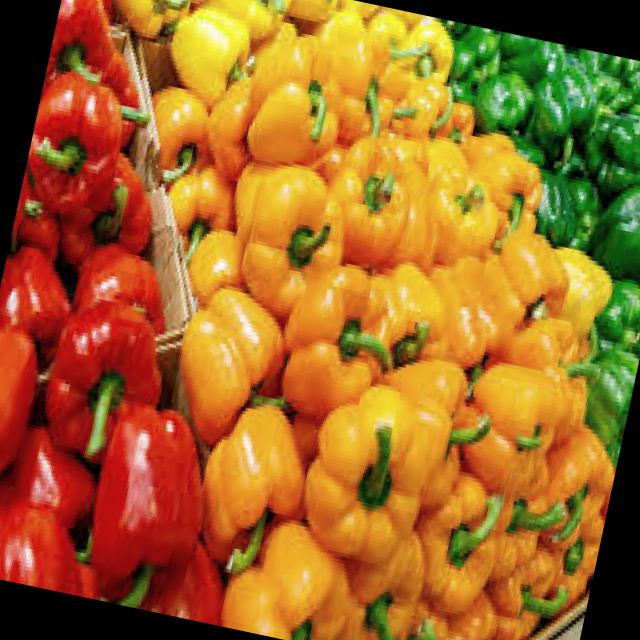Bell pepper: (21, 282, 180, 478), (70, 391, 214, 590), (288, 380, 440, 563), (158, 271, 306, 442), (265, 268, 419, 428), (454, 344, 586, 516), (230, 36, 356, 184), (314, 134, 436, 282), (209, 525, 363, 640), (18, 74, 132, 222), (126, 81, 234, 228), (188, 388, 304, 523), (231, 172, 347, 306), (410, 476, 514, 616), (307, 22, 414, 142), (514, 61, 624, 168), (153, 0, 257, 108), (458, 133, 556, 247), (338, 541, 442, 640), (372, 268, 457, 372), (0, 309, 48, 493), (490, 232, 573, 318), (573, 341, 640, 446), (430, 169, 514, 252), (591, 175, 640, 283)
